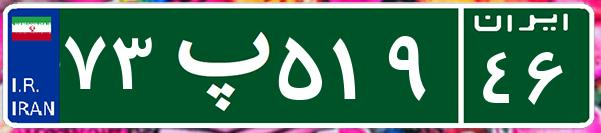1: (330, 28, 385, 110)
3: (110, 28, 158, 105)
4: (475, 38, 525, 113)
5: (273, 28, 330, 110)
6: (525, 38, 570, 115)
7: (57, 26, 110, 107)
9: (385, 28, 445, 110)
پ: (158, 15, 273, 115)
